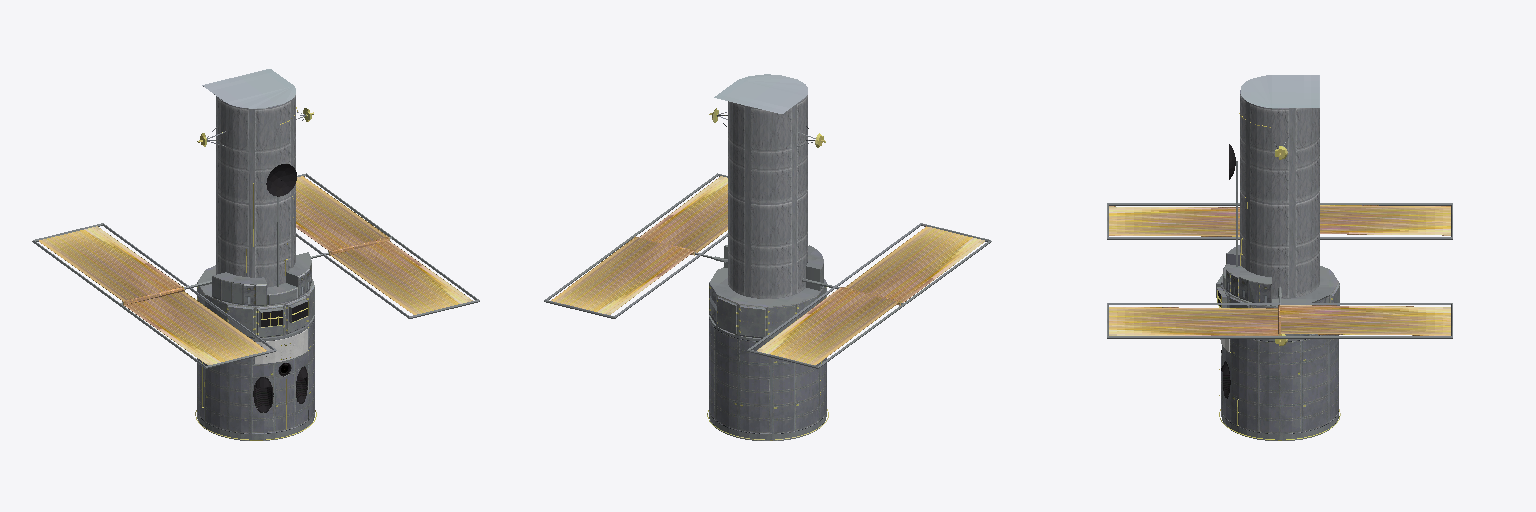
3 renders of one model, left to right at view 1: azimuth 30°, elevation 25°; view 2: azimuth 150°, elevation 25°; view 3: azimuth 270°, elevation 25°, orthographic.
Parts seen in each view (by area): view 1: hst_1, hst_4, hst_3, hst_2, hst_5; view 2: hst_1, hst_4, hst_3; view 3: hst_1, hst_4, hst_3.
Part boxes in pixels (x1,y1,x2,y2): hst_1: (32,69,479,440); hst_4: (39,176,472,364); hst_3: (216,95,295,287); hst_2: (253,164,307,412); hst_5: (255,329,307,363); hst_1: (544,74,991,440); hst_4: (551,176,984,364); hst_3: (728,95,807,298); hst_1: (1107,75,1452,440); hst_4: (1109,205,1450,335); hst_3: (1240,94,1319,298).
Bounding box in the file's own units: 4.58 × 5.26 × 5.01.
5 materials, 5 textured.